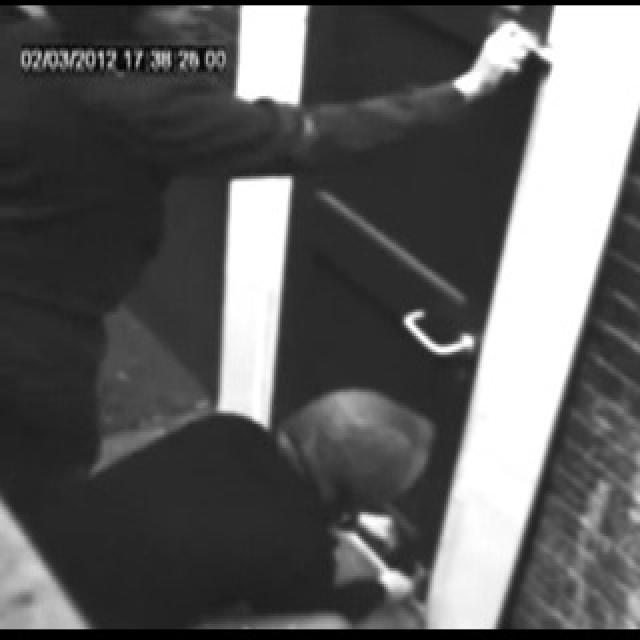thief: (272, 352, 442, 548), (34, 0, 228, 61)
